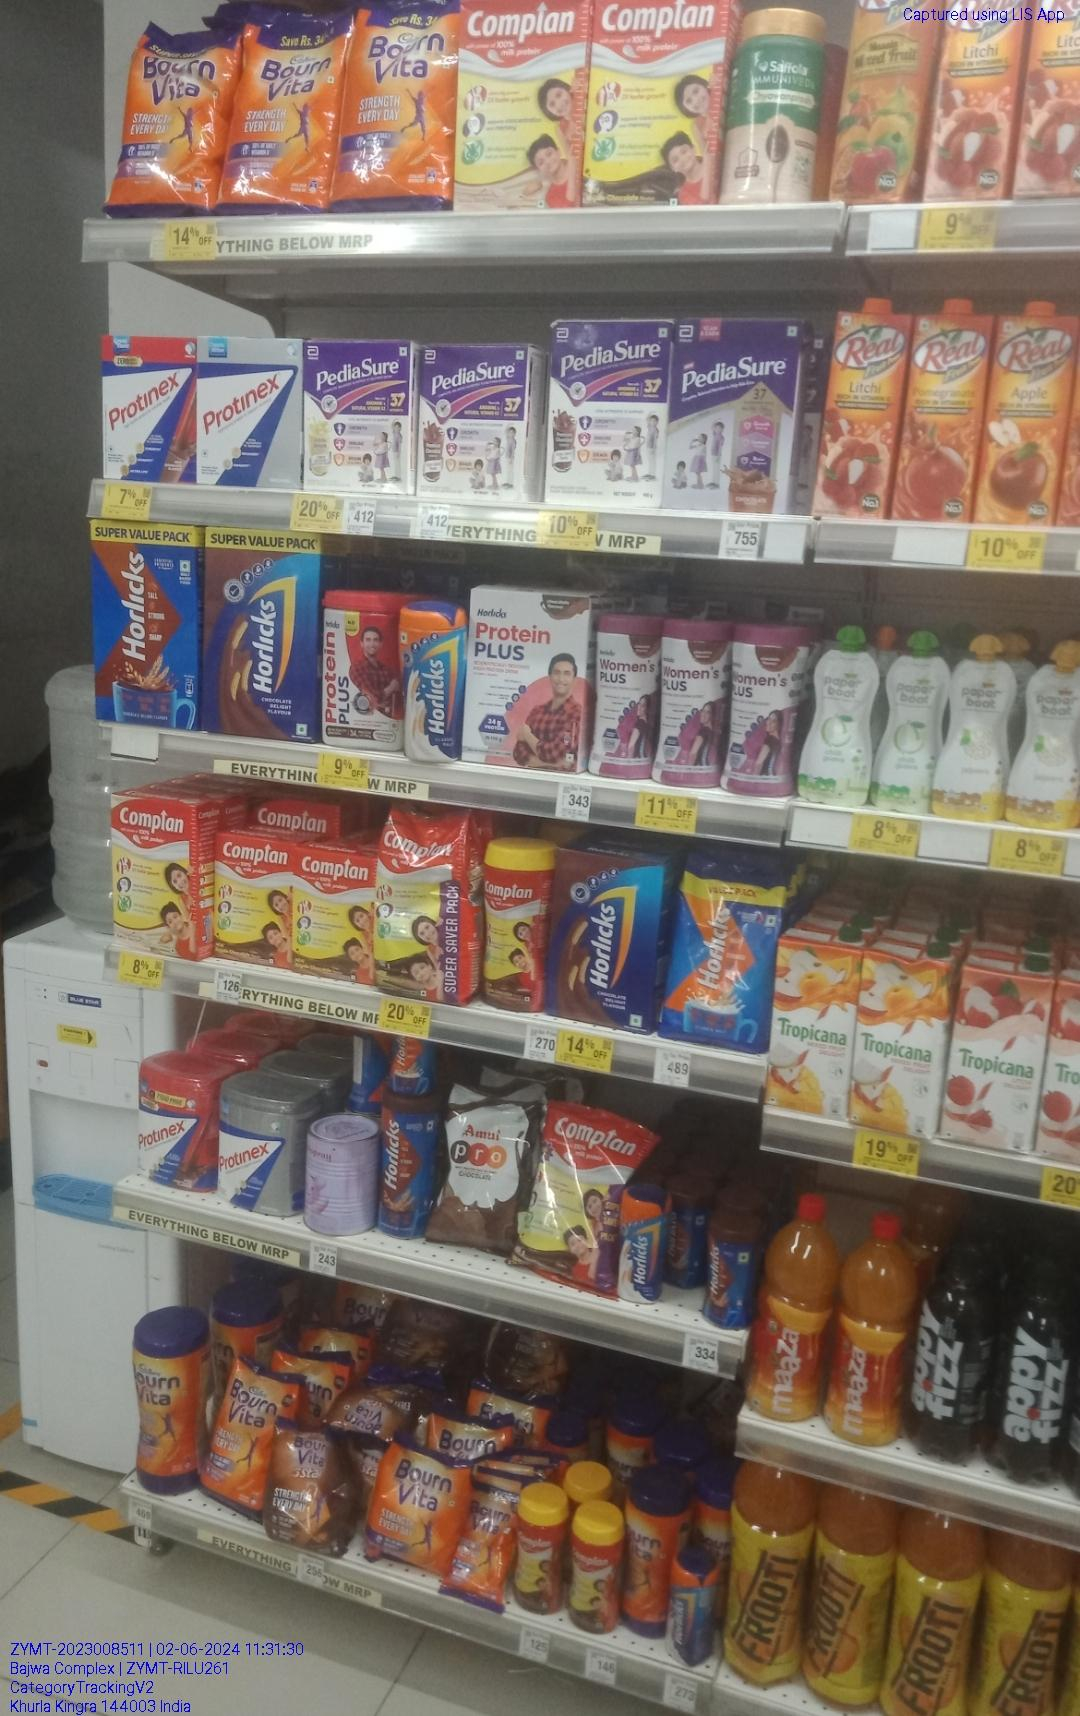BOURN_VITA_FIVE_STAR_MAGIC_500_G_POUCH: (270, 1422, 350, 1557)
COMPLAN_CHOCOLATE_200_GMS_JAR: (513, 1495, 567, 1615), (571, 1502, 620, 1635)
HORLICK_CLASSIC_MALT_200_G_JAR: (617, 1187, 668, 1299), (667, 1547, 712, 1664)
HORLICK_CLASSIC_MALT_500_G_JAR: (397, 601, 463, 765)
PEDIASURE_CHOCOLATE_500_G_PACK: (669, 320, 798, 518)
PROTINEX_CHOCOLATE_400_G_JAR: (136, 1060, 212, 1193)
PROTINEX_ORIGINAL_400_G_JAR: (218, 1080, 296, 1213)
